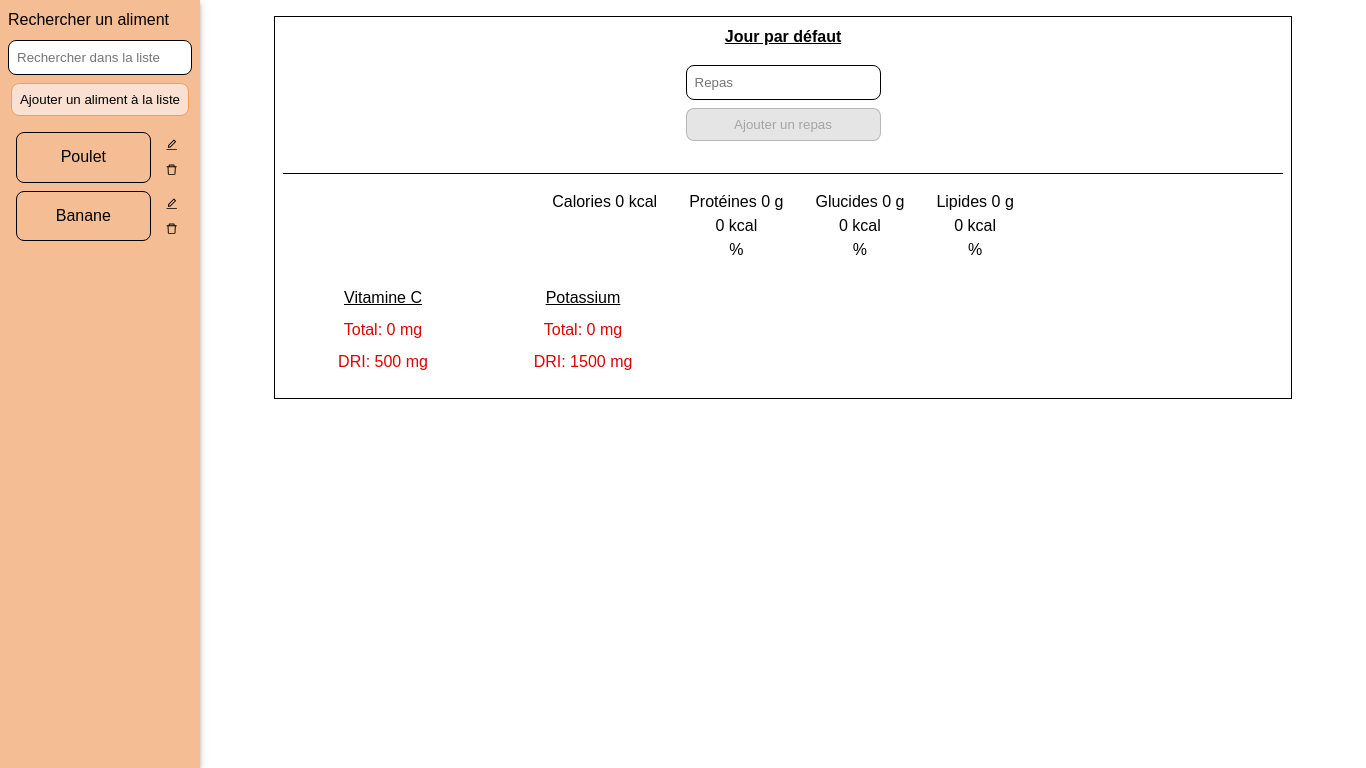
Test case: Search food › should delete food from list
The width and height of the screenshot is (1366, 768).
Click the button named "supprimer" next to "Banane": [171, 229] box x1=159 y1=216 x2=184 y2=241
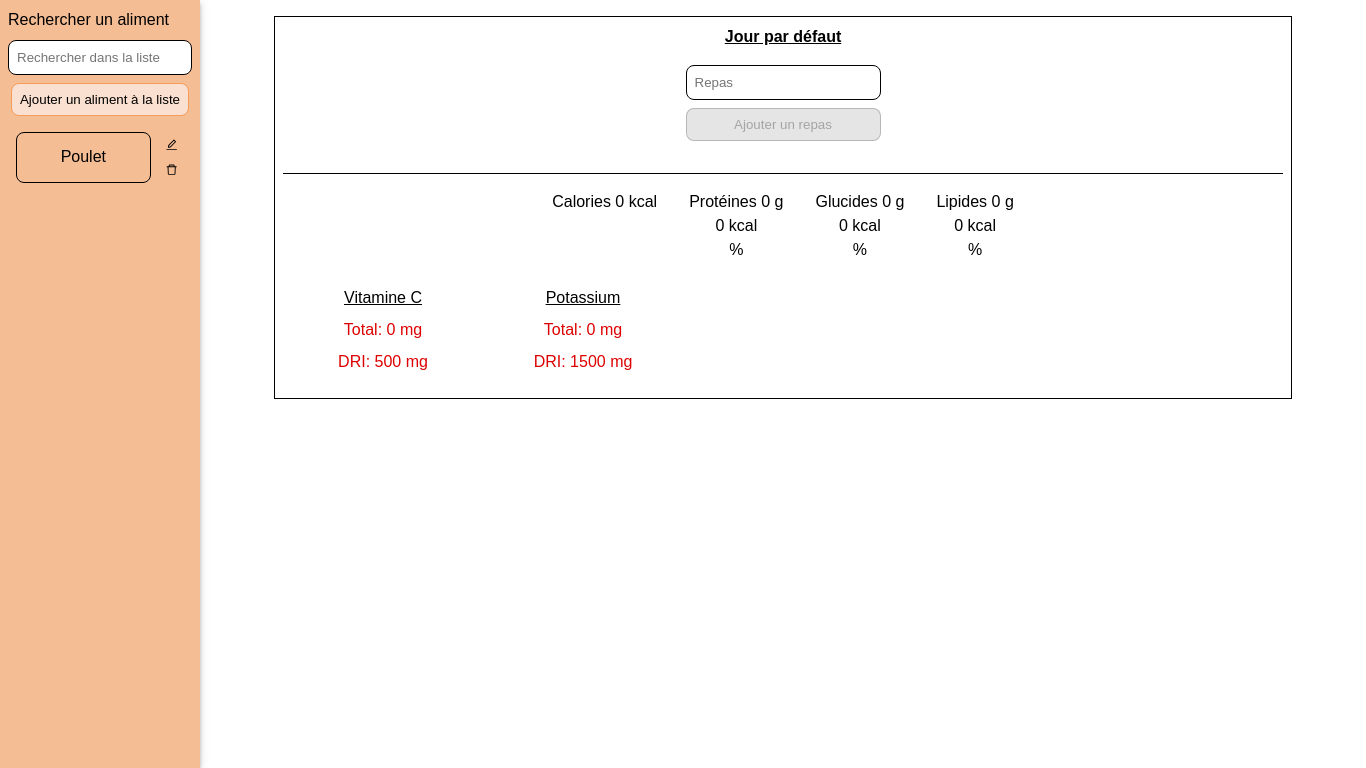
Result: the text "Banane" is gone
